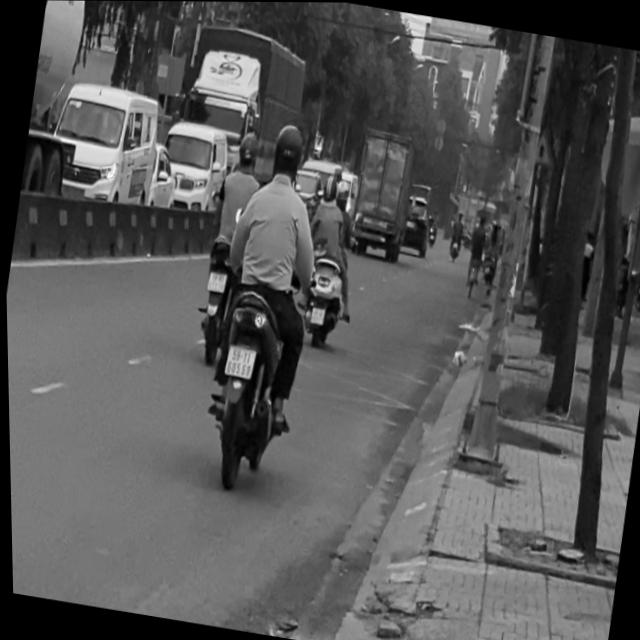helmet: (266, 119, 307, 183), (232, 130, 260, 171)
licenseplate: (183, 112, 341, 493), (185, 123, 268, 365)
nohelmet: (222, 343, 254, 377), (205, 270, 226, 291)
